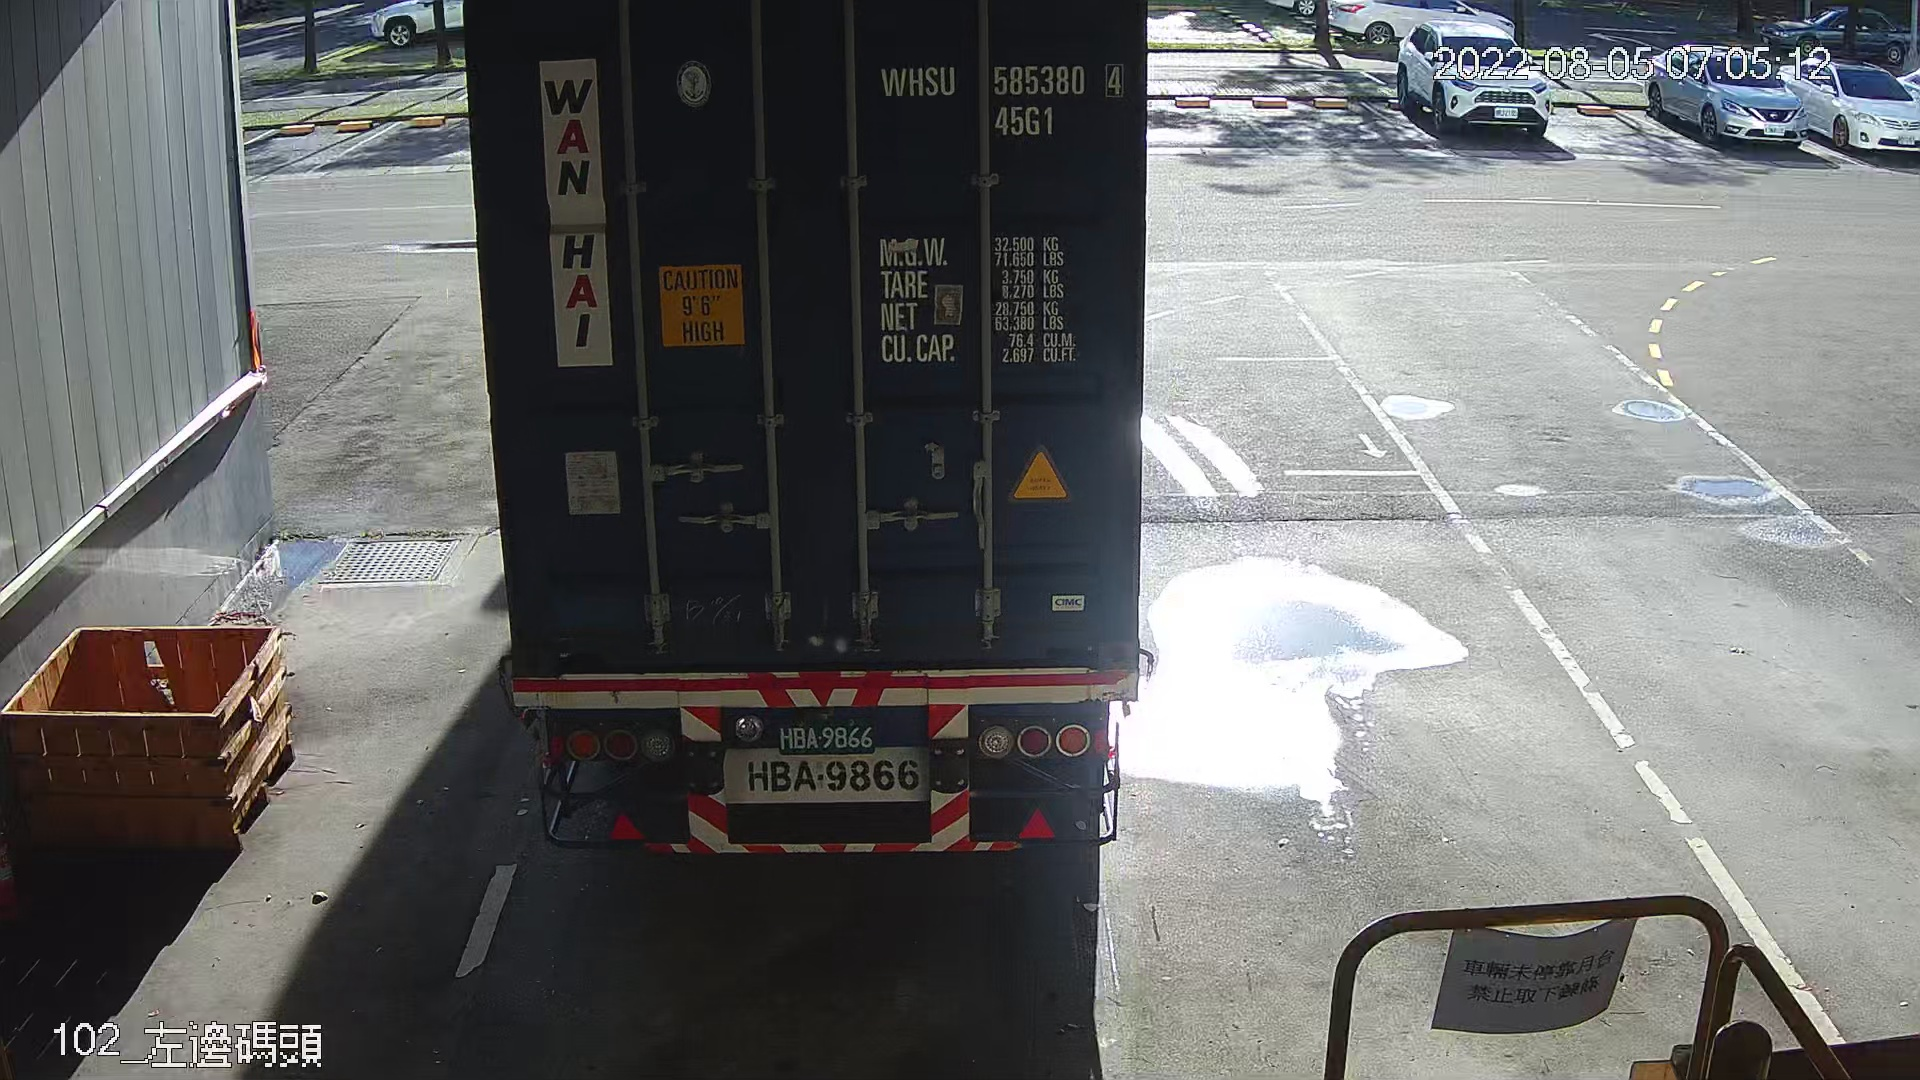container: (872, 47, 1137, 152)
